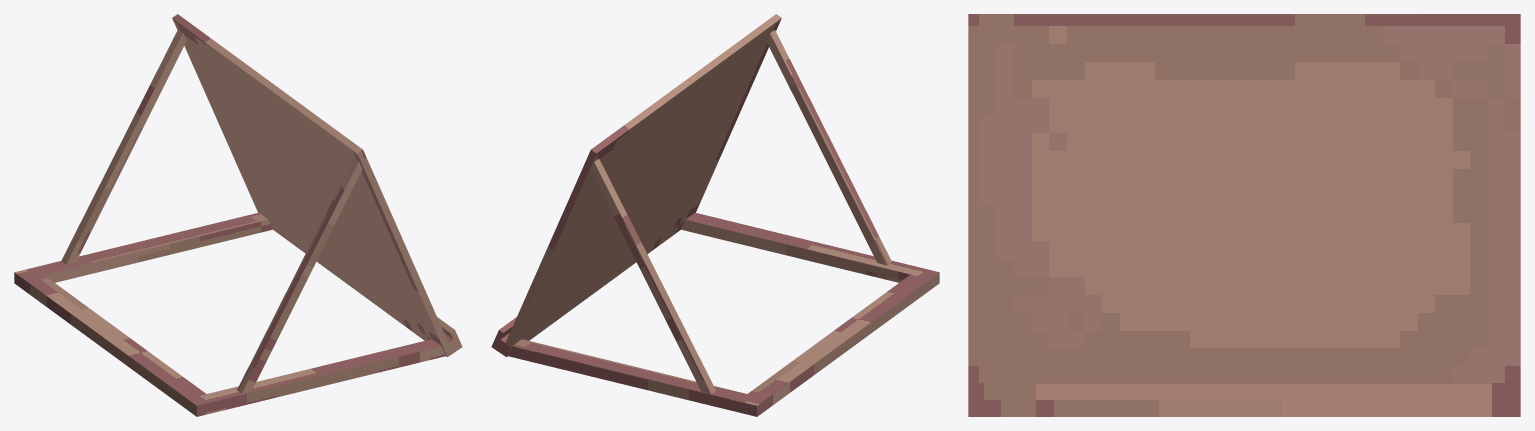
The model's file is Drawing board.fbx.
3 renders of one model, left to right at view 1: azimuth 30°, elevation 25°; view 2: azimuth 150°, elevation 25°; view 3: azimuth 270°, elevation 25°, orthographic. The views are drawn at different scales.
Visible parts, largest first — view 1: Cube.001; view 2: Cube.001; view 3: Cube.001.
Boxes of the visible parts, <box> form: Cube.001: <box>14,14,462,416</box>; Cube.001: <box>491,14,939,416</box>; Cube.001: <box>968,14,1520,416</box>.
Size of the model in its own units: 211 by 174 by 257.
1 material, 1 textured.
